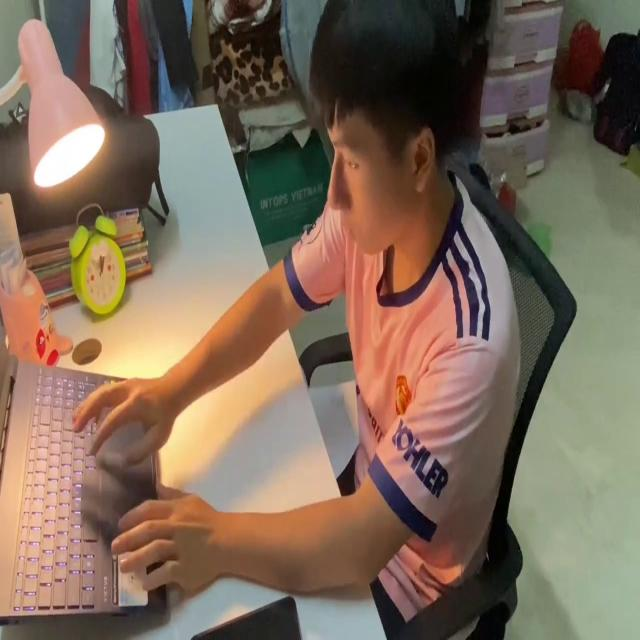book: (304, 371, 362, 473)
laptop: (0, 302, 173, 620)
student: (71, 0, 526, 622)
